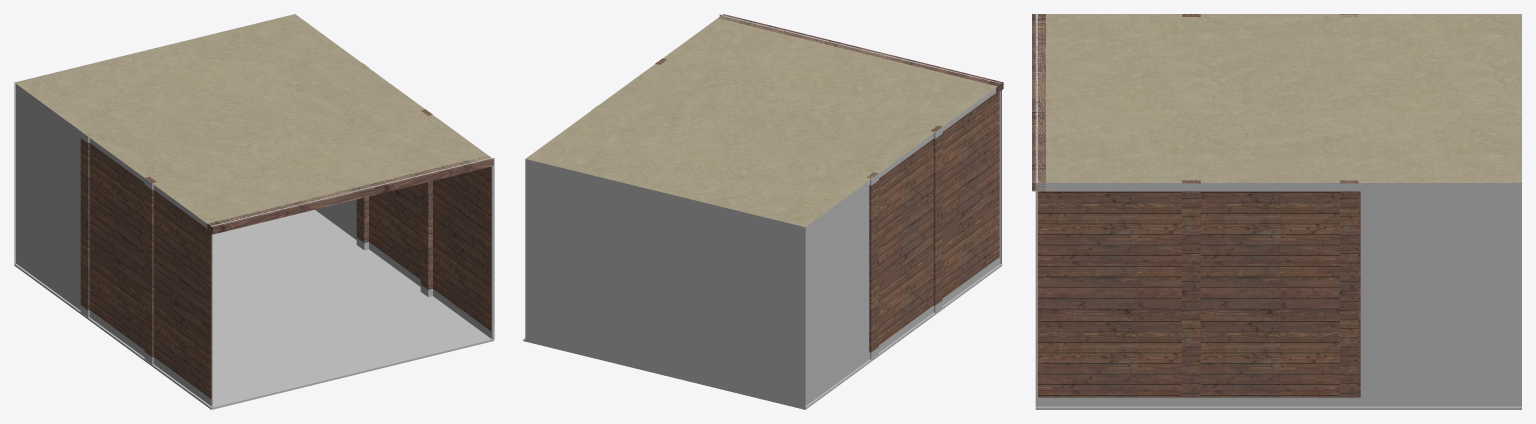
File: ms_tri_b_2q_in03.fbx
The picture shows the model from 3 angles, left to right: view 1: azimuth 30°, elevation 25°; view 2: azimuth 150°, elevation 25°; view 3: azimuth 270°, elevation 25°; orthographic projection. The views are drawn at different scales.
Parts seen in each view (by area): view 1: ms_tri_b_2q_in03; view 2: ms_tri_b_2q_in03; view 3: ms_tri_b_2q_in03.
Part boxes in pixels (x1,y1,x2,y2): ms_tri_b_2q_in03: (14, 14, 494, 409); ms_tri_b_2q_in03: (523, 14, 1003, 409); ms_tri_b_2q_in03: (1032, 14, 1521, 409).
Bounding box in the file's own units: 5.45 × 3.37 × 6.62.
